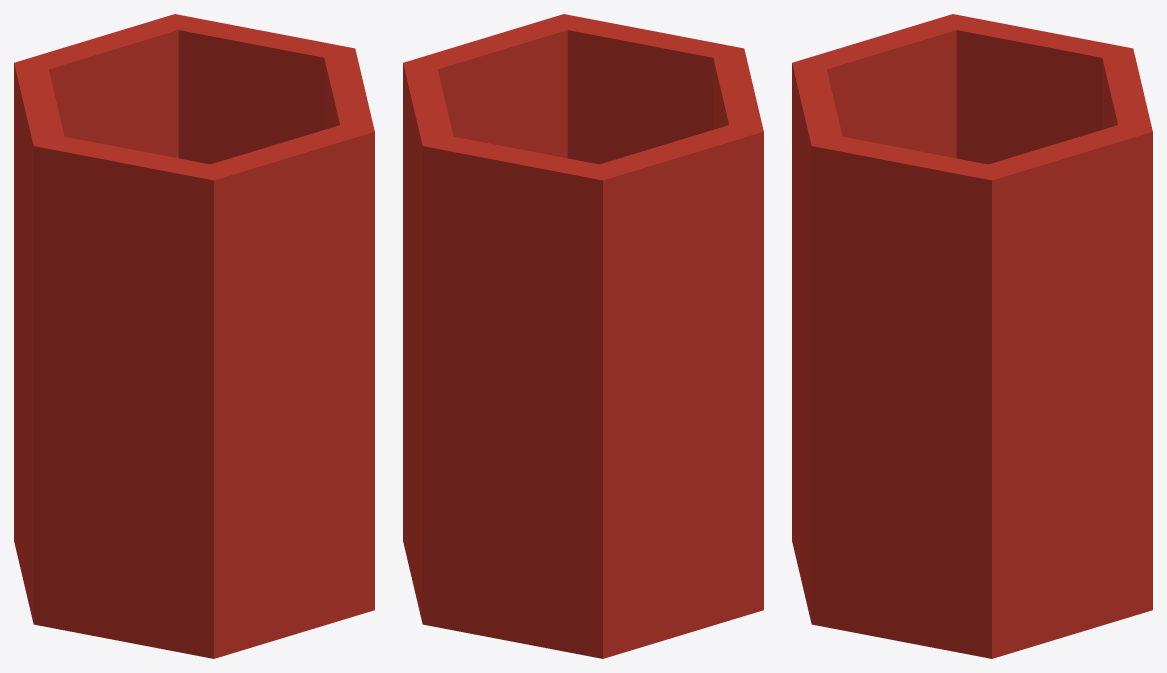
Rendered from cap red v1.fbx.
The picture shows the model from 3 angles, left to right: view 1: azimuth 30°, elevation 25°; view 2: azimuth 150°, elevation 25°; view 3: azimuth 270°, elevation 25°; orthographic projection.
Parts seen in each view (by area): view 1: Body1; view 2: Body1; view 3: Body1.
Part boxes in pixels (x1=…): Body1: x1=14, y1=14, x2=374, y2=658; Body1: x1=403, y1=14, x2=763, y2=658; Body1: x1=792, y1=14, x2=1152, y2=658.
Size of the model in its own units: 2.99 by 4 by 2.73.
